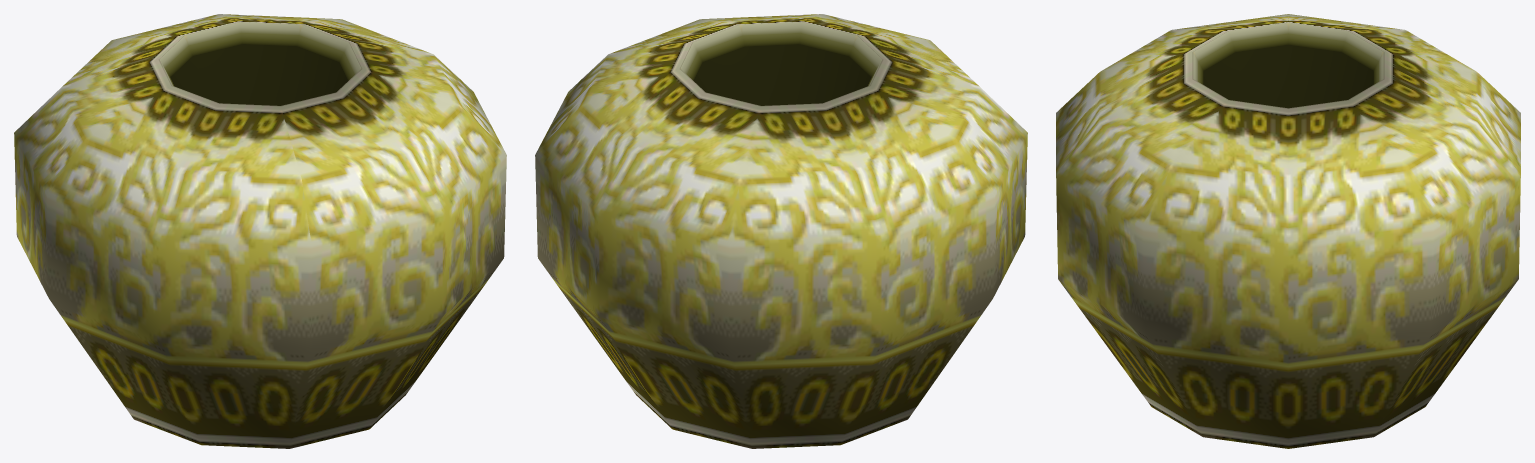
File: int_jar_jar_broun.dae
3 views of the same model, side by side, from view 1: azimuth 30°, elevation 25°; view 2: azimuth 150°, elevation 25°; view 3: azimuth 270°, elevation 25° (orthographic).
Visible parts, largest first — view 1: int_jar_jar_broun; view 2: int_jar_jar_broun; view 3: int_jar_jar_broun.
Boxes of the visible parts, x1,y1,x2,y2 form: int_jar_jar_broun: (14,14,506,448); int_jar_jar_broun: (535,14,1027,448); int_jar_jar_broun: (1056,14,1520,448).
Bounding box in the file's own units: 24.6 × 17.9 × 23.4.
1 material, 1 textured.
